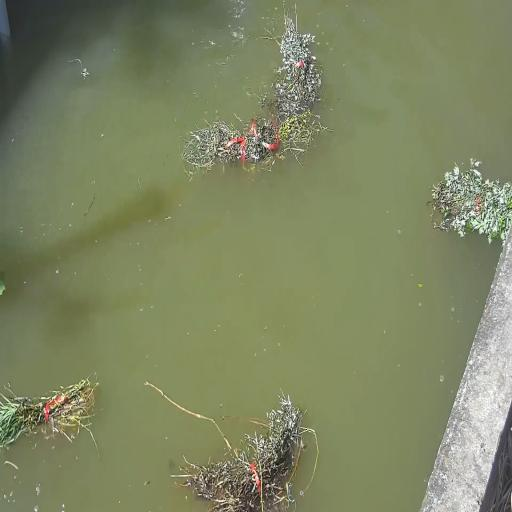twig: (155, 385, 311, 511), (182, 110, 324, 176), (0, 372, 101, 454), (426, 159, 511, 244), (271, 2, 321, 116)
